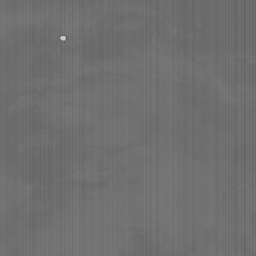Target: (59, 35, 66, 43)
